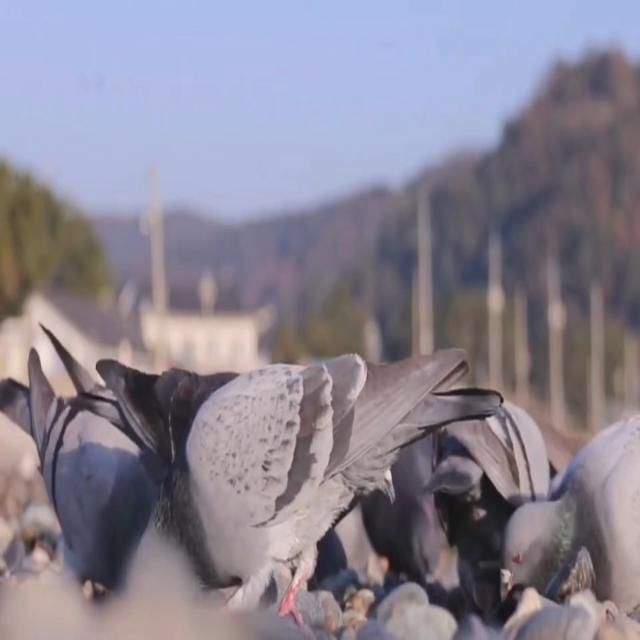bird: (164, 351, 481, 627), (2, 369, 201, 594), (497, 403, 640, 640), (76, 329, 269, 493), (432, 358, 566, 592), (365, 391, 452, 615), (298, 364, 358, 634)
